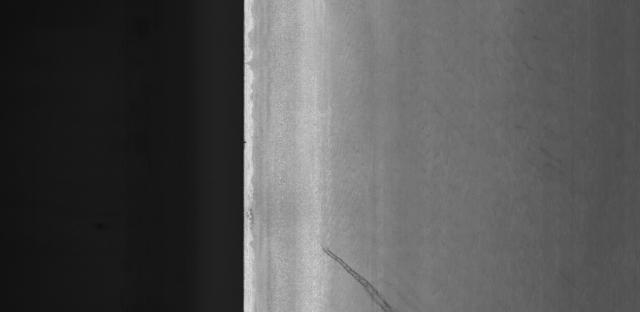water_spot: (312, 234, 401, 312)
